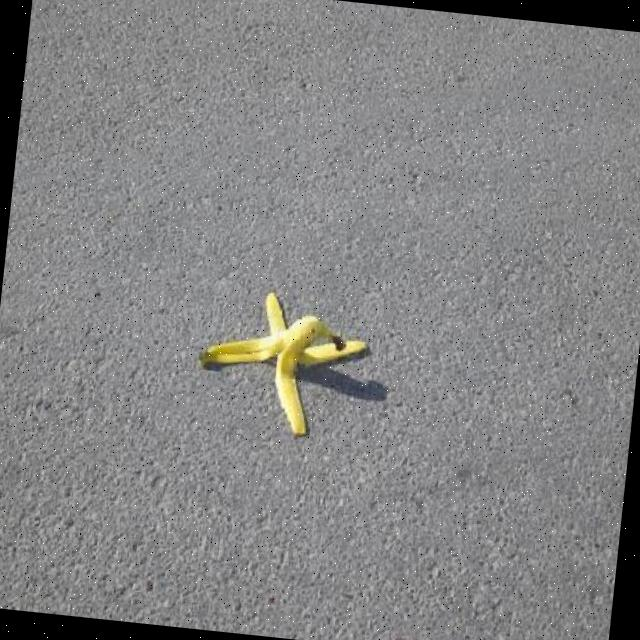banana-peel: (190, 282, 372, 442)
